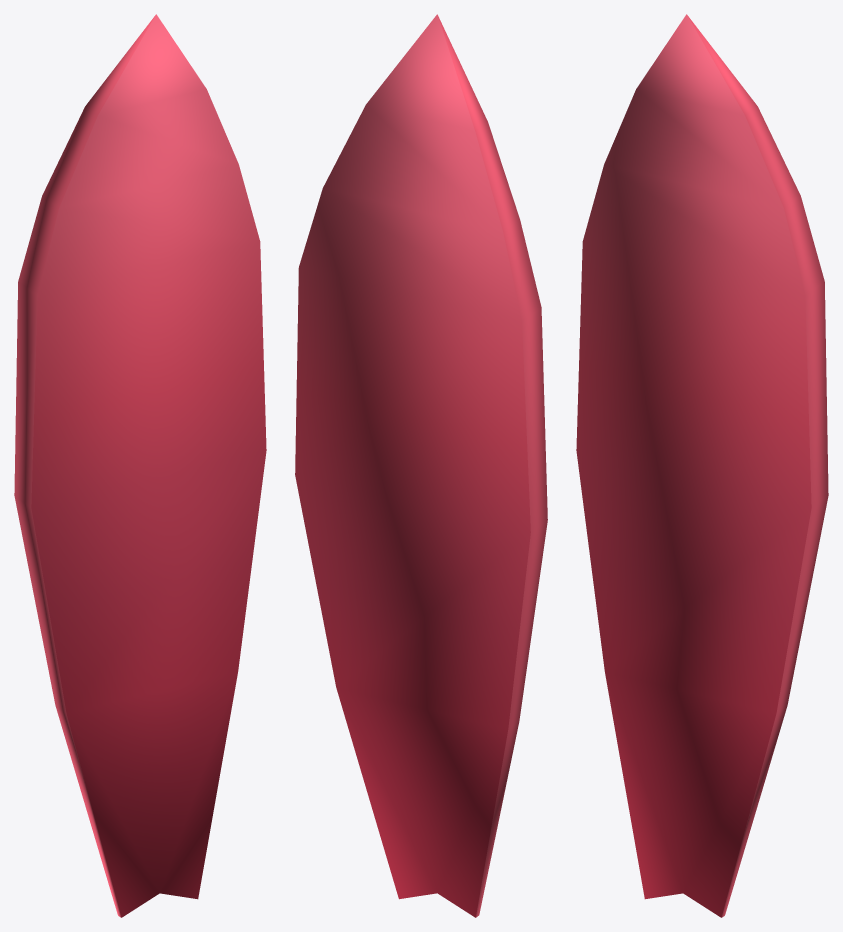
The model's file is SurfBoard_01.fbx.
3 renders of one model, left to right at view 1: azimuth 30°, elevation 25°; view 2: azimuth 150°, elevation 25°; view 3: azimuth 330°, elevation 25°, orthographic.
Visible parts, largest first — view 1: SurfBoard_01; view 2: SurfBoard_01; view 3: SurfBoard_01.
Part boxes in pixels (<box>): SurfBoard_01: <box>14,14,266,917</box>; SurfBoard_01: <box>295,14,547,917</box>; SurfBoard_01: <box>576,14,828,917</box>.
Size of the model in its own units: 0.1975 by 0.716 by 0.0442.
